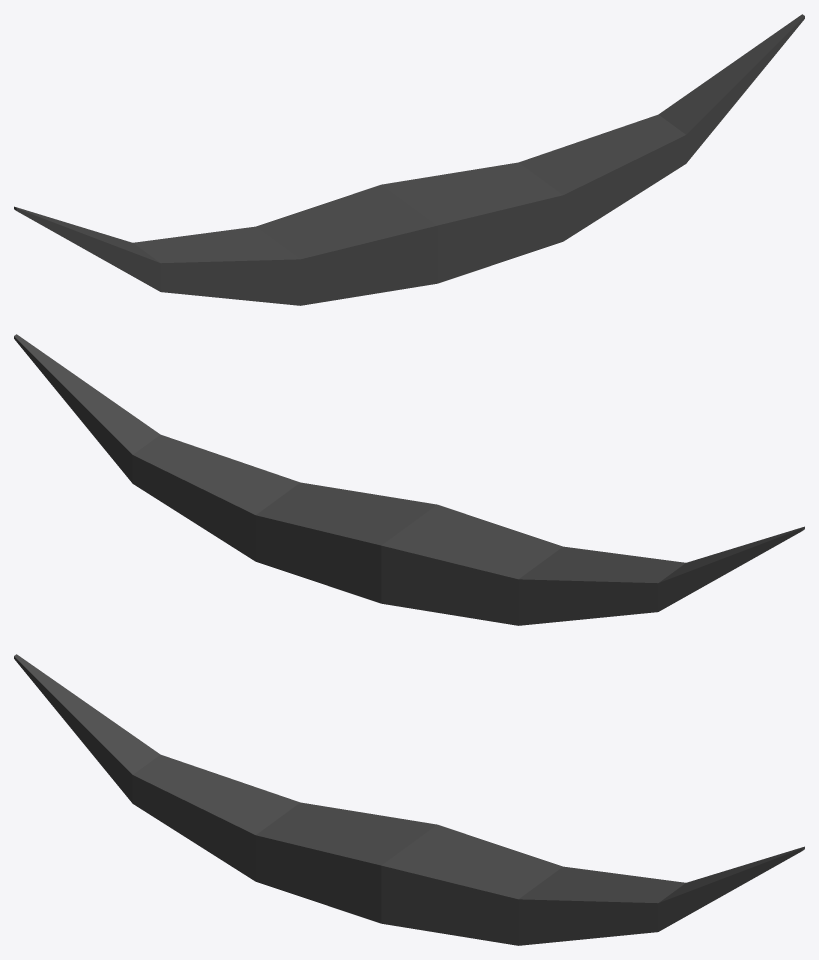
File: ModularSwordKit_Parierstange01.fbx
3 renders of one model, top to bottom at view 1: azimuth 30°, elevation 25°; view 2: azimuth 150°, elevation 25°; view 3: azimuth 330°, elevation 25°, orthographic.
Parts seen in each view (by area): view 1: Parierstange01; view 2: Parierstange01; view 3: Parierstange01.
Boxes of the visible parts, bbox=[...] form: Parierstange01: bbox=[14, 14, 804, 305]; Parierstange01: bbox=[14, 334, 804, 625]; Parierstange01: bbox=[14, 654, 804, 945].
Size of the model in its own units: 115 by 21.09 by 14.09.
